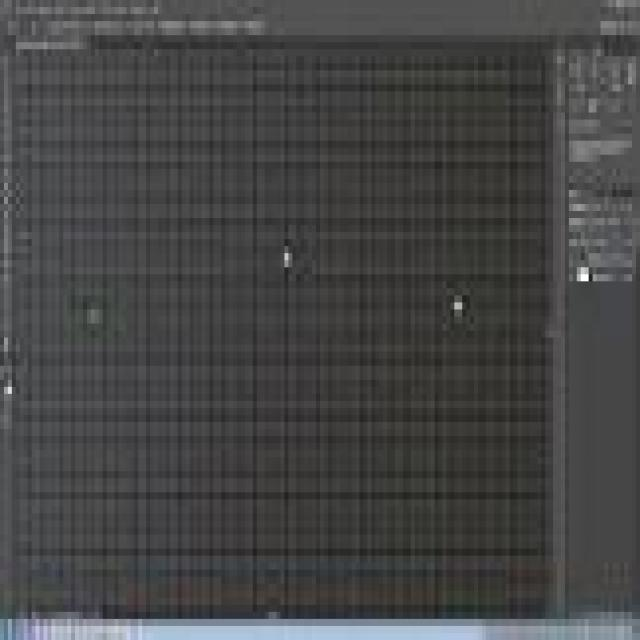dead_pixel: (443, 286, 487, 341), (78, 277, 110, 341), (275, 220, 304, 289), (0, 339, 27, 404), (576, 260, 600, 299)
